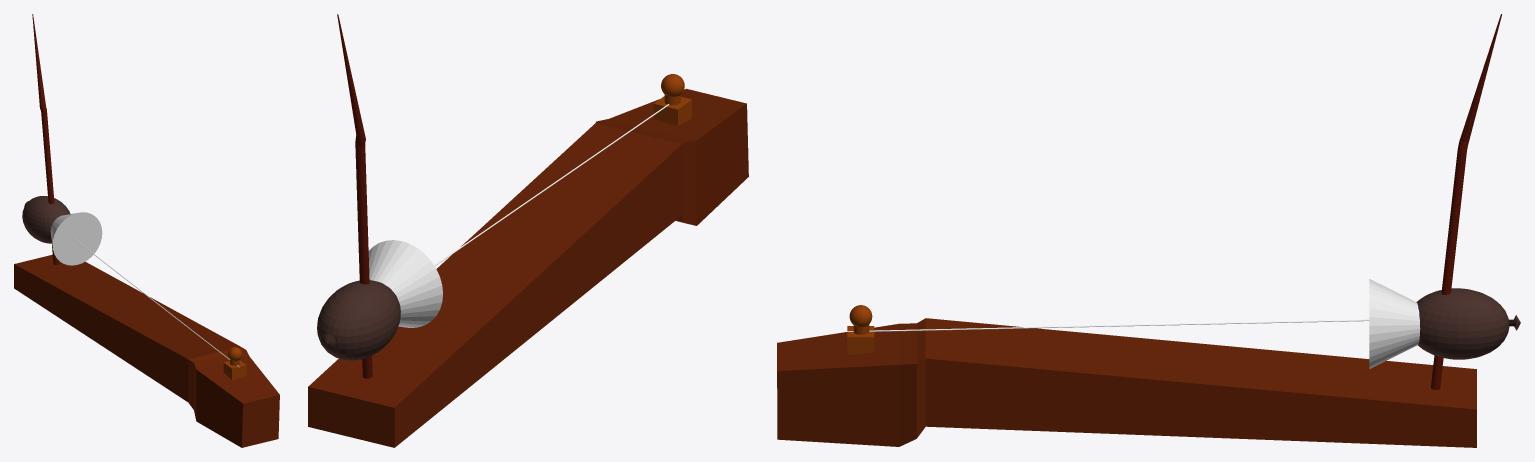
The model's file is dan_bau.gltf.
The picture shows the model from 3 angles, left to right: view 1: azimuth 30°, elevation 25°; view 2: azimuth 150°, elevation 25°; view 3: azimuth 270°, elevation 25°; orthographic projection. The views are drawn at different scales.
Visible parts, largest first — view 1: Cube, Cone, Sphere, Cylinder.002, Sphere.001, Cylinder.003; view 2: Cube, Sphere, Cone, Cylinder.002, Sphere.001, Cylinder.003; view 3: Cube, Sphere, Cone, Cylinder.002, Sphere.001, Cylinder.003.
Part boxes in pixels (x1,y1,x2,y2): Cube: (14,254,279,447); Cone: (50,212,102,265); Sphere: (22,196,70,243); Cylinder.002: (32,14,59,264); Sphere.001: (223,347,246,379); Cylinder.003: (74,238,239,367); Cube: (308,88,748,447); Sphere: (317,280,400,360); Cone: (368,240,442,327); Cylinder.002: (337,14,372,378); Sphere.001: (653,74,691,125); Cylinder.003: (434,104,669,265); Cube: (777,318,1476,447); Sphere: (1416,288,1509,359); Cone: (1369,279,1420,368); Cylinder.002: (1431,14,1501,389); Sphere.001: (847,305,874,355); Cylinder.003: (847,319,1369,331).
Size of the model in its own units: 2.24 by 10.08 by 16.4.
